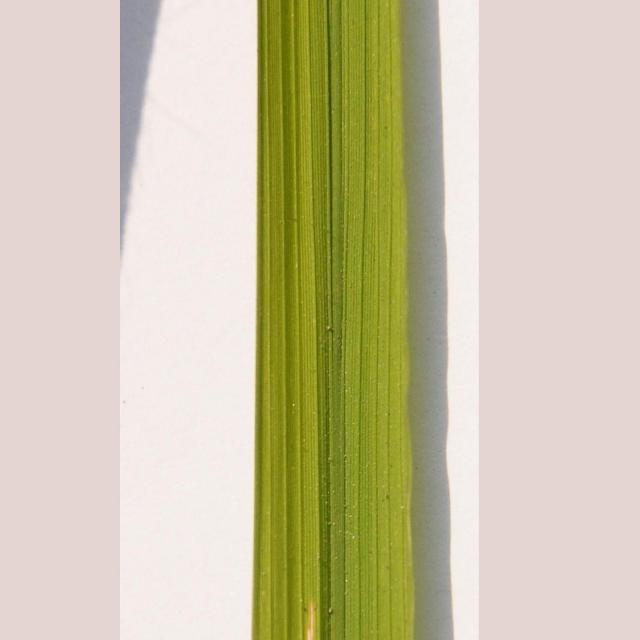leaf blight: (276, 572, 338, 640)
